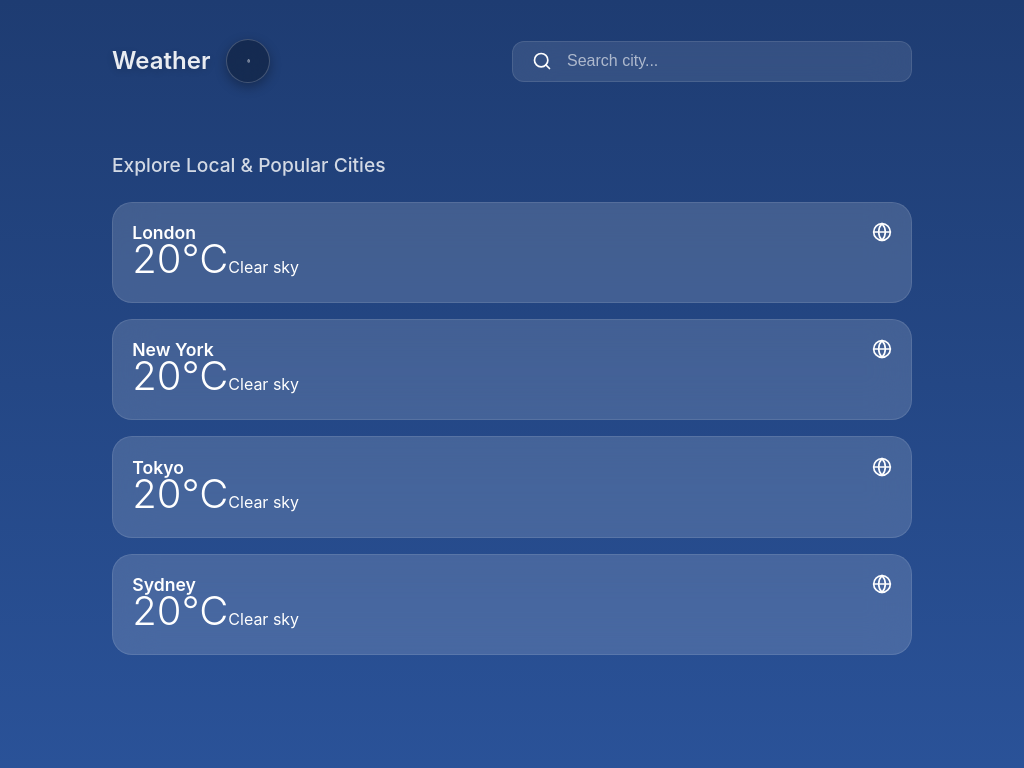
App › returns to the home screen with the back button
The image size is (1024, 768).
Click the text "Sydney" at (164, 585), box [132,574,196,595]
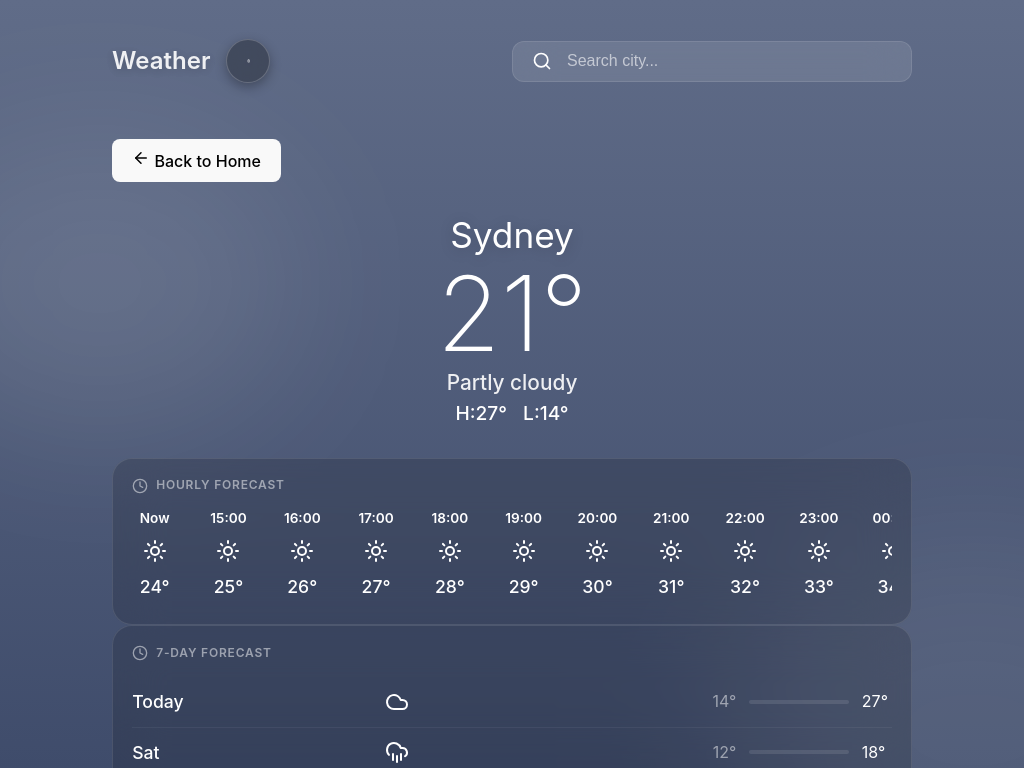
Click the button "Back to Home" at (197, 160), box [112,138,281,182]
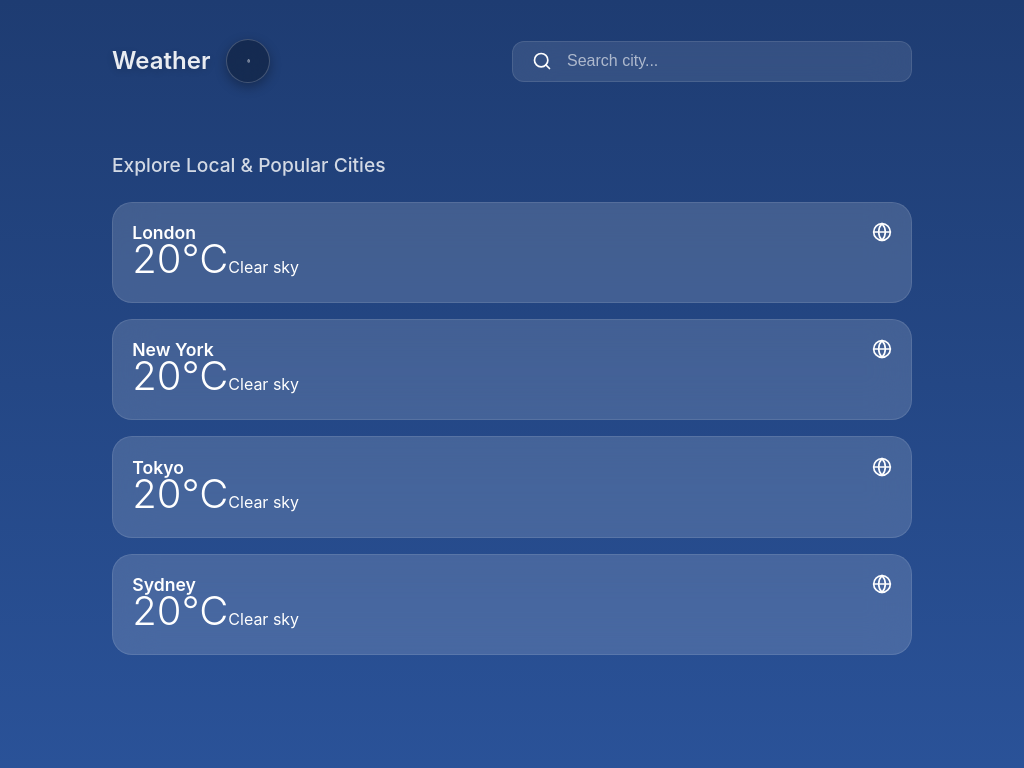
Expected: the heading "Explore Local & Popular Cities" is shown, [112,154,386,178]
